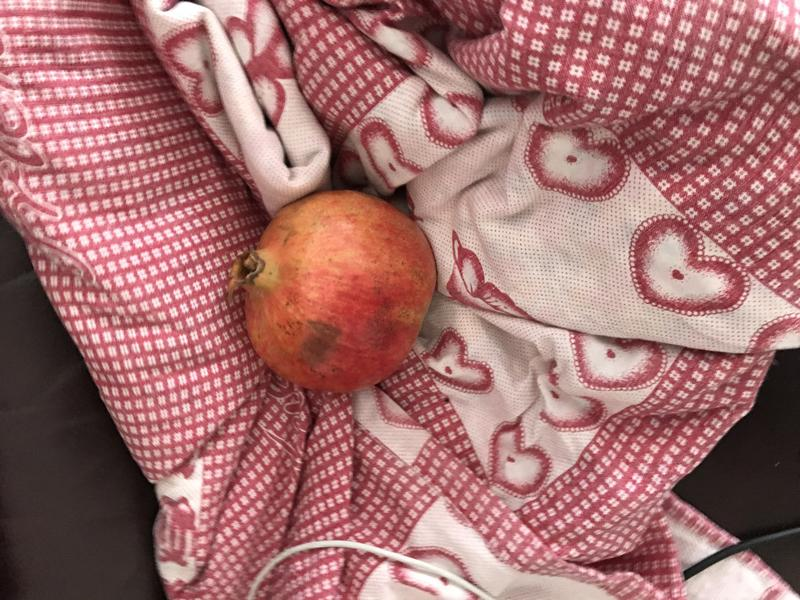pomegranate: (221, 179, 446, 408)
